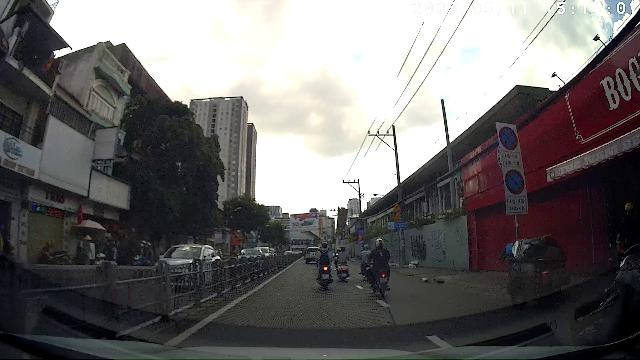130-cam-dung-va-do-xe: (499, 126, 518, 150)
131a-cam-do-xe: (505, 169, 525, 195)
